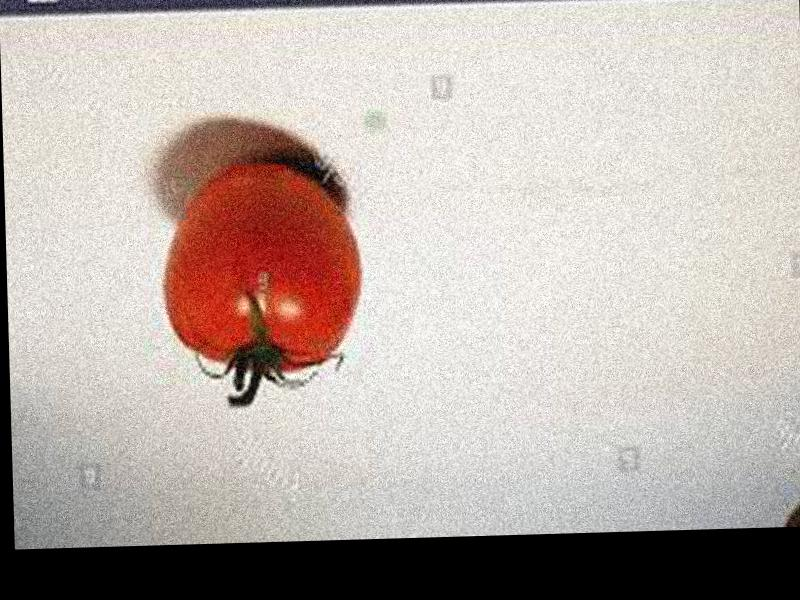Tomato: (162, 157, 363, 372)
